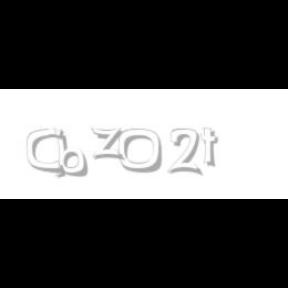2: (167, 128, 201, 176)
C: (26, 128, 64, 174)
O: (118, 128, 163, 174)
b: (53, 128, 91, 178)
t: (201, 128, 223, 168)
z: (91, 128, 127, 160)
